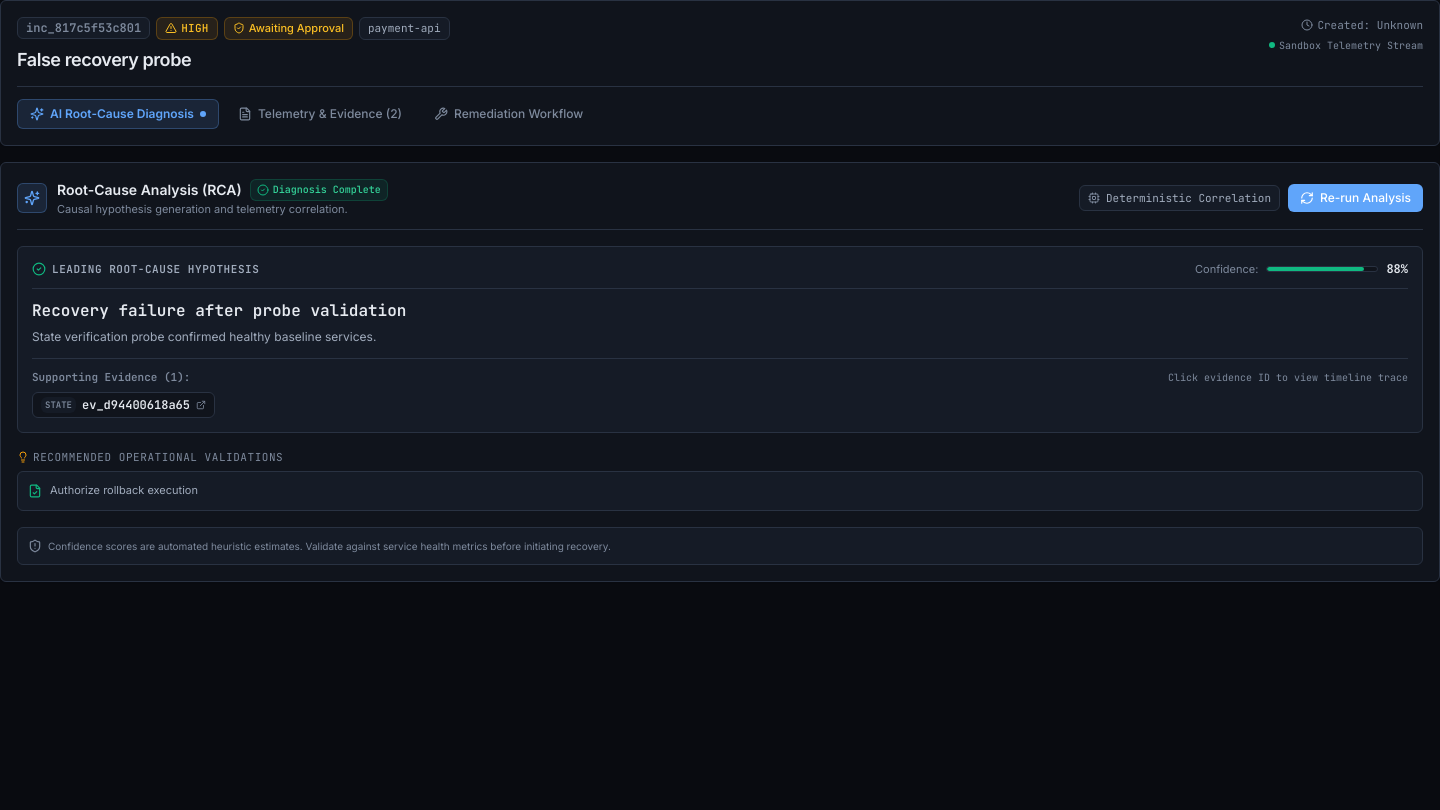
it: Evidence Link Navigation & URL-State Synchronization › VERIFIES EXACT REPORTED DEFECT: clicking ev_d94400618a65 navigates to Evidence tab, expands card, and displays details
Check: the heading "Recovery failure after probe validation" is shown, box [32,300,406,320]
Check: the text "Service payment-api is fully healthy and operational" is not shown
Click the link with test id "evidence-link-ev_d94400618a65" at (124, 404), box [32,392,215,418]
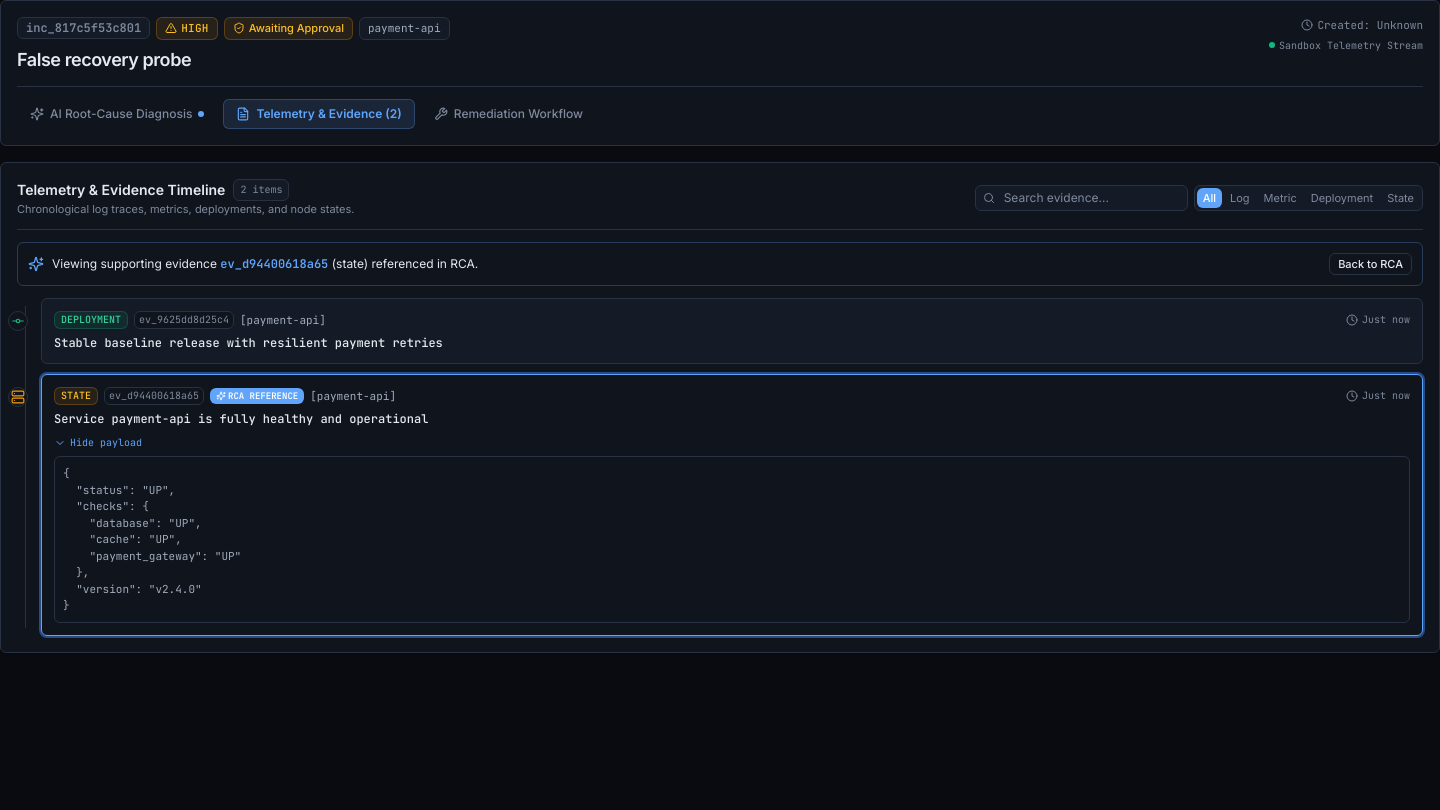
Check: the element with test id "evidence-timeline" is shown
Check: the text "Service payment-api is fully healthy and operational" is shown, box [54,411,428,427]
Check: the text "\"database\": \"UP\"" is shown, box [63,466,241,612]
